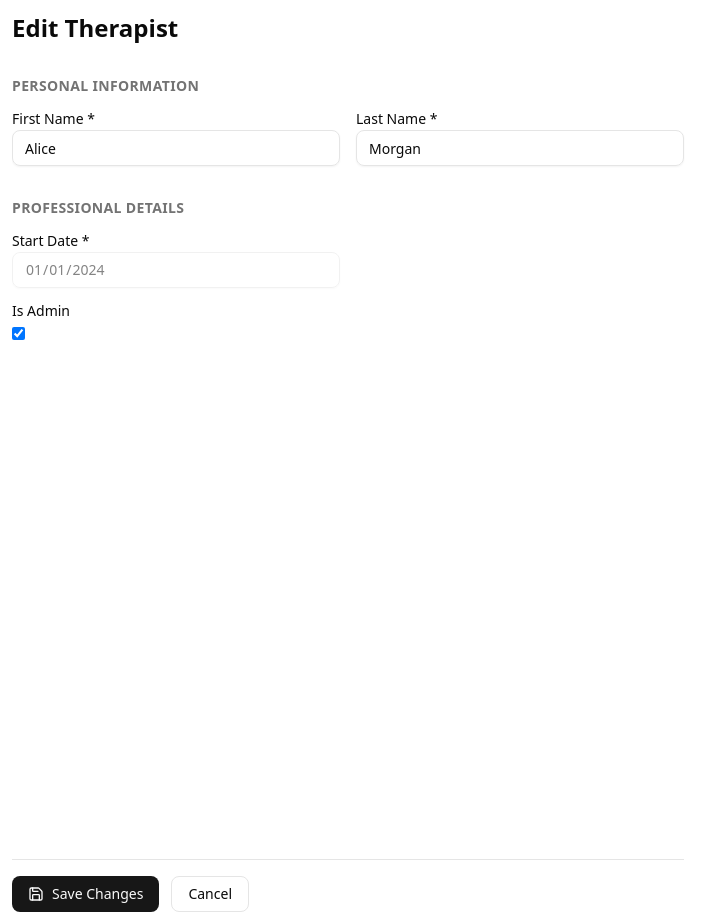
TherapistFormPage — edit therapist › shows conflict warning with server-changed fields and preserves user edits
Replace the text in the field named "first name" with "Alicia" at (176, 148), box [12,130,340,166]
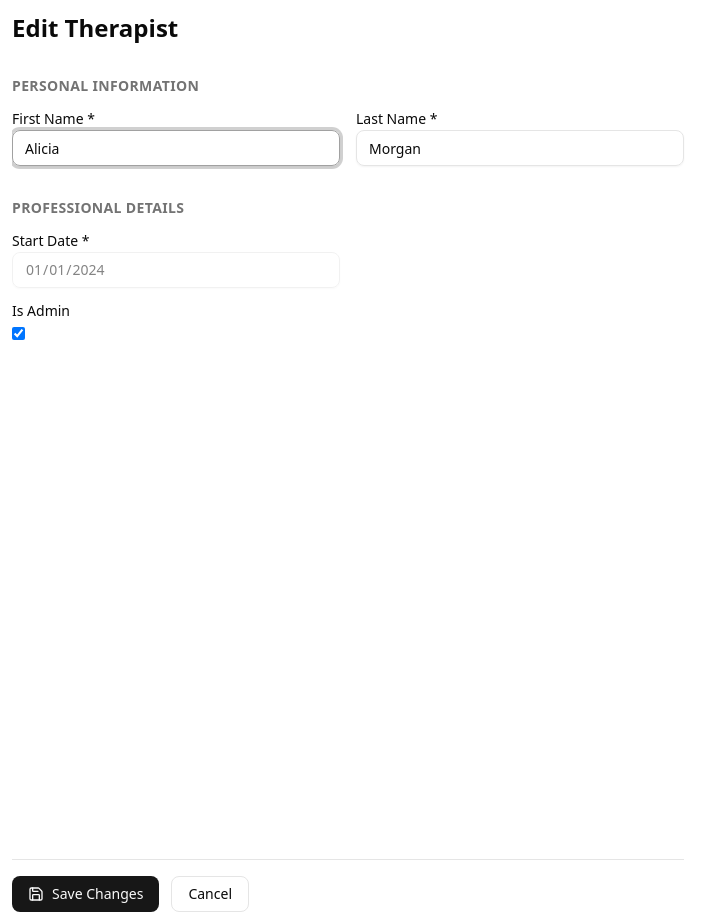
Click the button "Save Changes" at (86, 894), box [12,876,159,911]
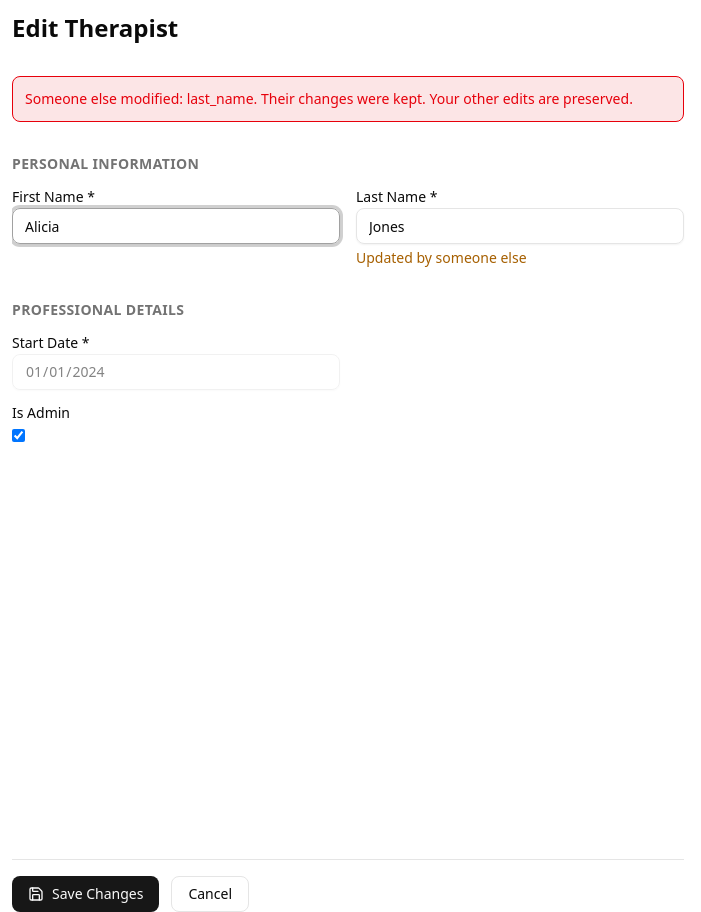
Check: the message shows "Someone else modified", box [25,89,633,108]
Check: the message shows "last_name", box [25,89,633,108]
Check: the field named "last name" holds "Jones", box [356,208,684,244]
